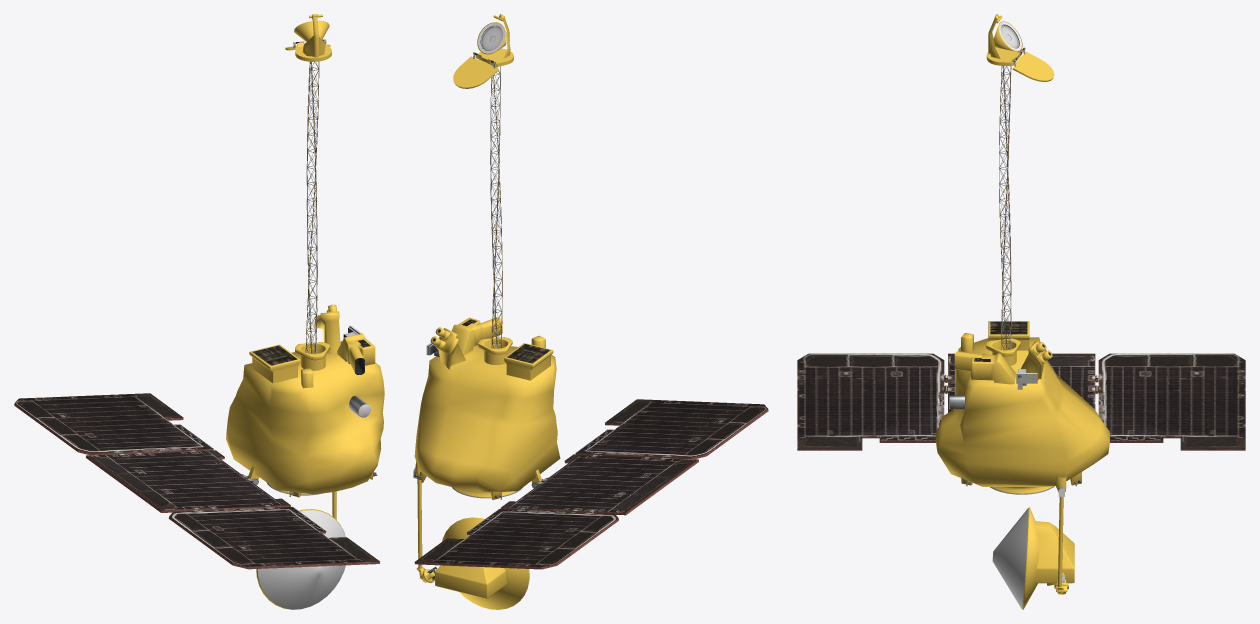
Rendered from mars-odyssey.glb.
3 views of the same model, side by side, from view 1: azimuth 30°, elevation 25°; view 2: azimuth 150°, elevation 25°; view 3: azimuth 270°, elevation 25° (orthographic). The views are drawn at different scales.
Parts seen in each view (by area): view 1: shiny_panel, foil_gold, foil_silver, tex_boom, tex_02, tex_01; view 2: foil_gold, shiny_panel, tex_boom, tex_02, tex_01, tex_AO; view 3: shiny_panel, foil_gold, tex_boom, foil_silver, tex_01, tex_02.
Part boxes in pixels (x1,y1,x2,y2): shiny_panel: [15, 393, 379, 566]; foil_gold: [226, 14, 384, 609]; foil_silver: [257, 404, 370, 609]; tex_boom: [305, 61, 319, 353]; tex_02: [14, 403, 379, 569]; tex_01: [116, 39, 370, 510]; foil_gold: [414, 14, 560, 609]; shiny_panel: [415, 399, 767, 566]; tex_boom: [490, 65, 502, 348]; tex_02: [414, 409, 768, 569]; tex_01: [415, 52, 670, 578]; tex_AO: [478, 23, 505, 53]; shiny_panel: [797, 353, 1245, 448]; foil_gold: [935, 14, 1109, 609]; tex_boom: [999, 65, 1011, 349]; foil_silver: [949, 396, 1028, 608]; tex_01: [944, 47, 1098, 393]; tex_02: [797, 436, 1245, 494].
Size of what is drawn, in the model's own units: 2.33 by 5.7 by 3.93.
10 materials, 7 textured.
